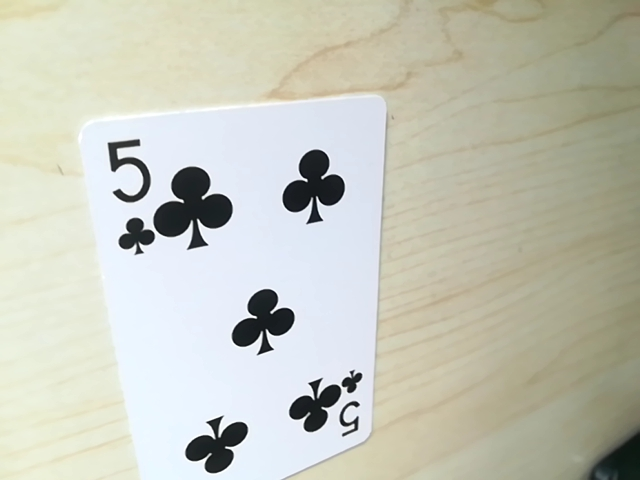mh 5: (97, 127, 163, 253), (323, 367, 367, 445)
